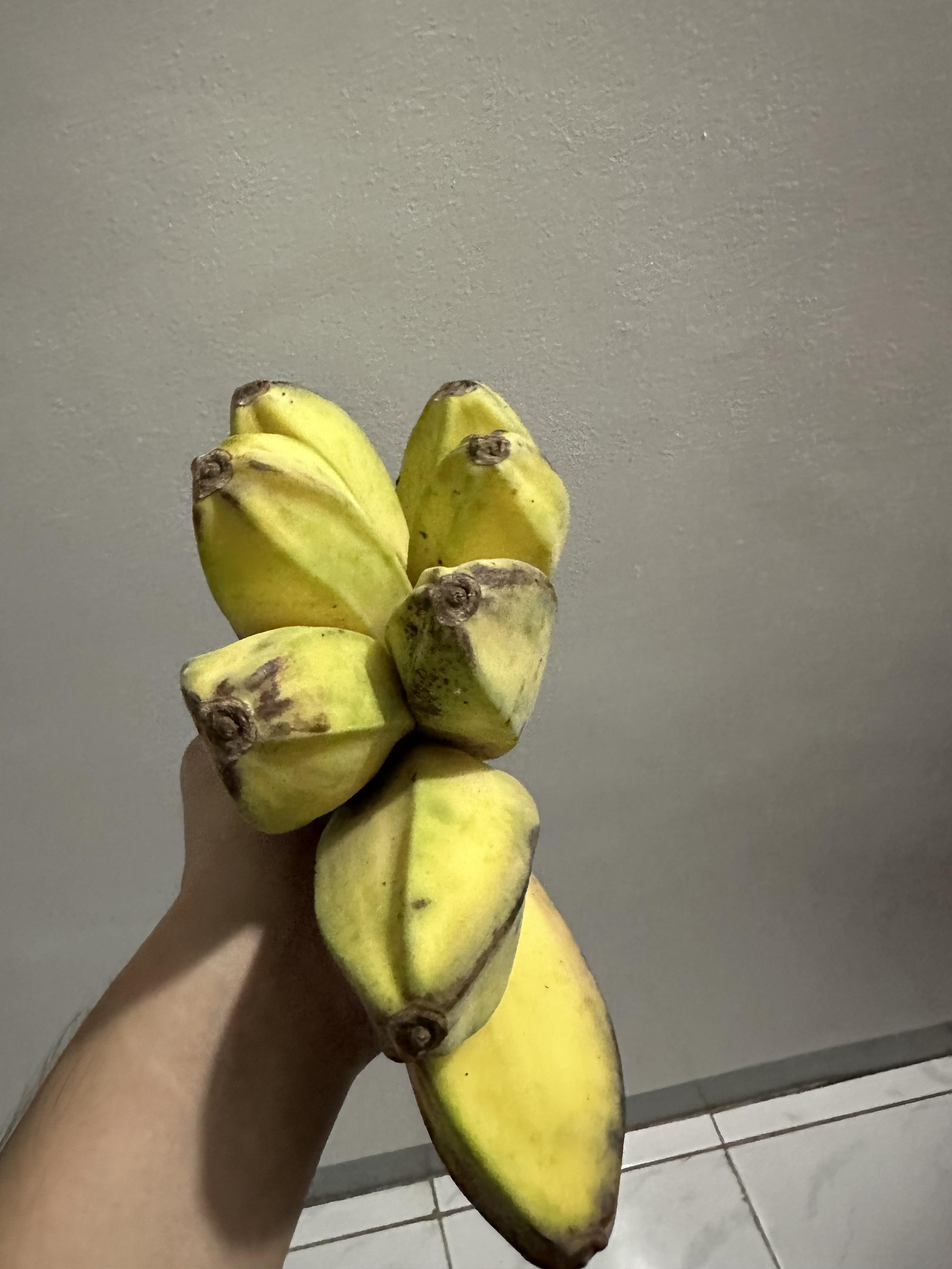underripe: (180, 380, 624, 1269)
